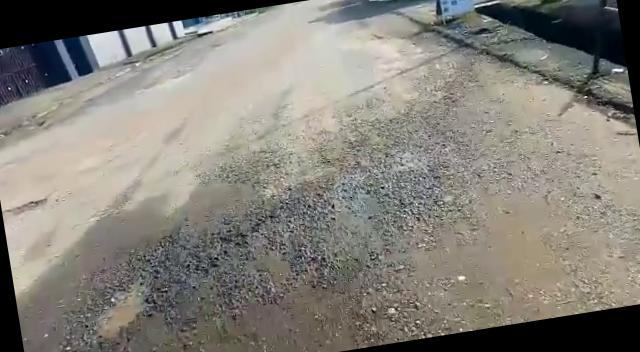pothole: (90, 280, 148, 341)
